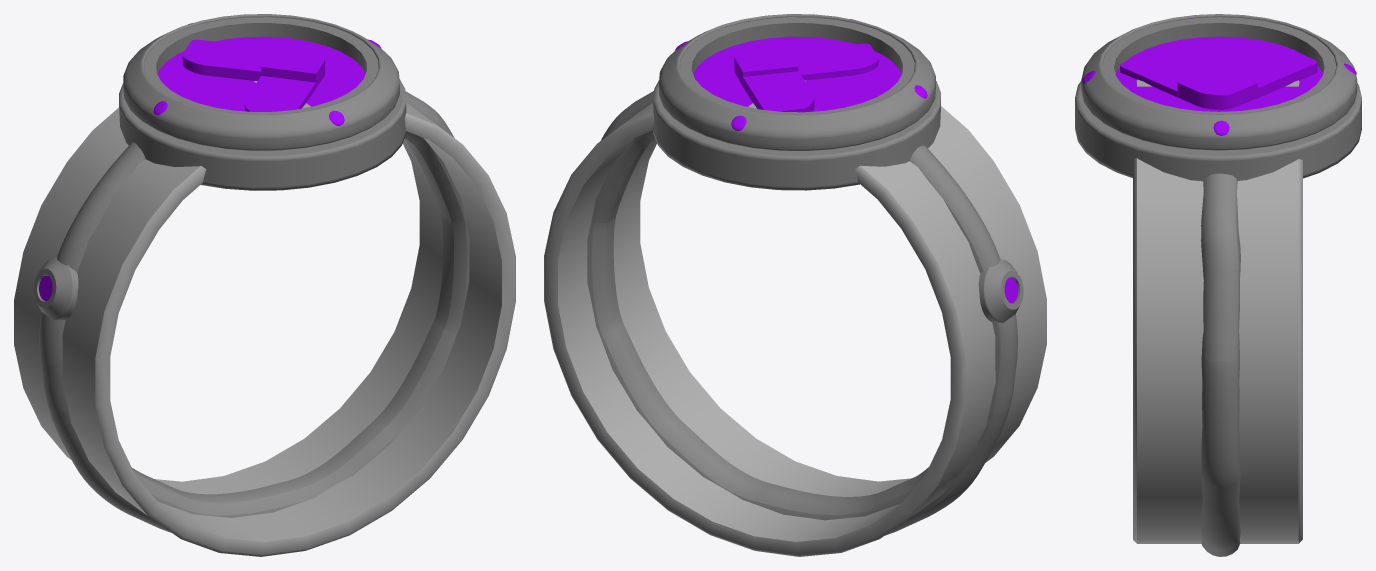
The model's file is Imagine Watch.fbx.
The picture shows the model from 3 angles, left to right: view 1: azimuth 30°, elevation 25°; view 2: azimuth 150°, elevation 25°; view 3: azimuth 270°, elevation 25°; orthographic projection.
Visible parts, largest first — view 1: Watch, Plastic3, Designs; view 2: Watch, Plastic3, Designs; view 3: Watch, Plastic3, Designs.
Part boxes in pixels (x1,y1,x2,y2): Watch: (14,81,515,556); Plastic3: (33,14,469,532); Designs: (39,23,381,300); Watch: (544,80,1046,556); Plastic3: (587,14,1023,535); Designs: (675,19,1018,302); Watch: (1133,79,1302,543); Plastic3: (1075,14,1361,556); Designs: (1082,17,1356,135).
Bounding box in the file's own units: 1100 × 1104 × 618.
